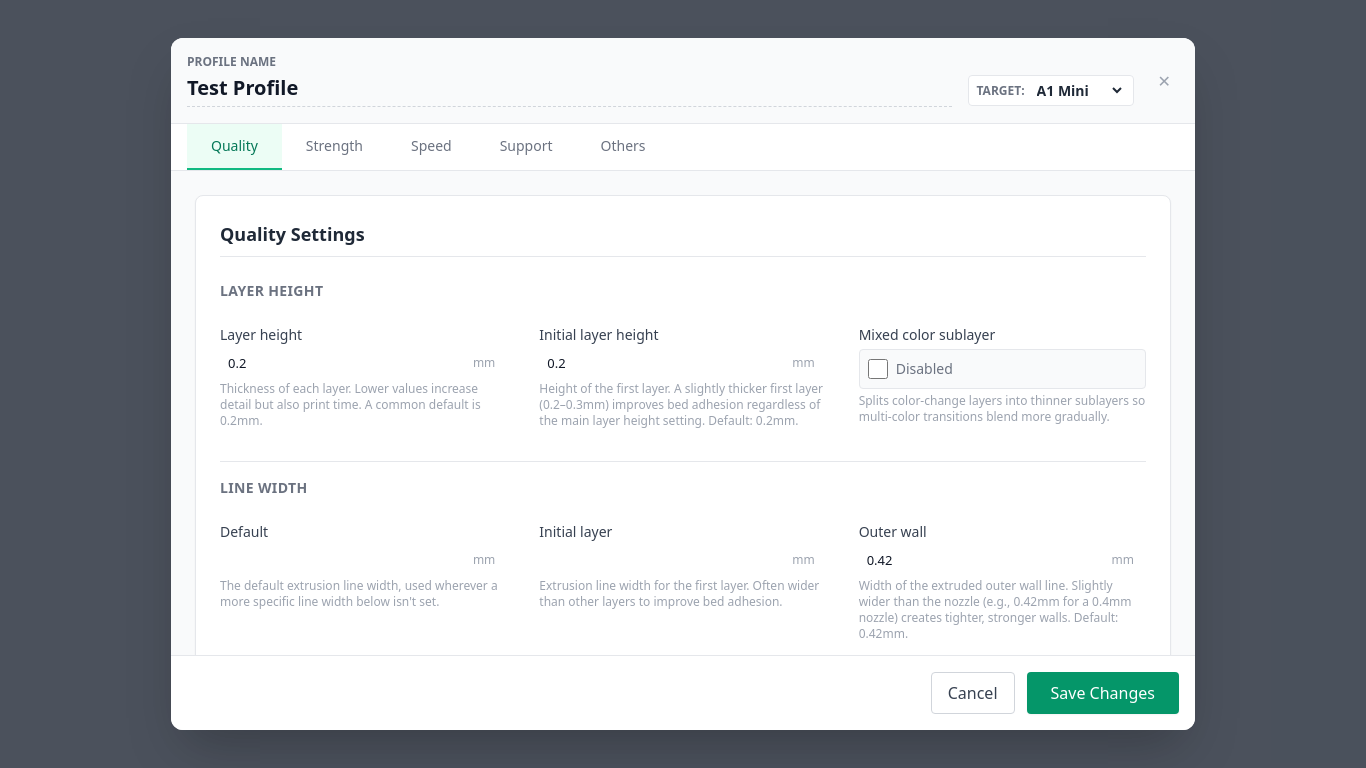
Scenario: EditorModal — profile type › changing the target printer resets speed settings to that model's defaults (new profile only)
This screenshot has width=1366, height=768.
Select "X1 Carbon" in the dropdown named "Target Printer" at (1079, 91), box [1033, 80, 1125, 101]
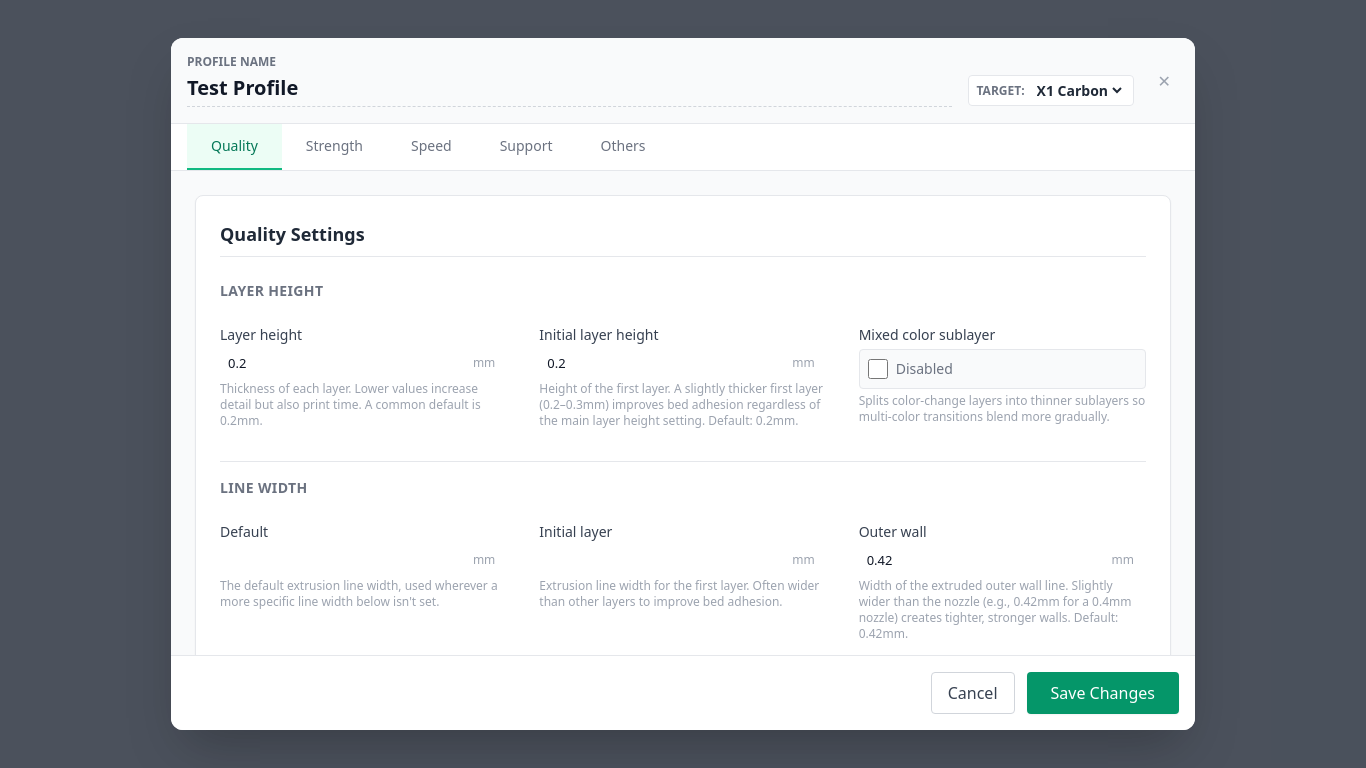
Click the button "Speed".
click(431, 147)  # box [387, 124, 476, 170]
(page scrolled)
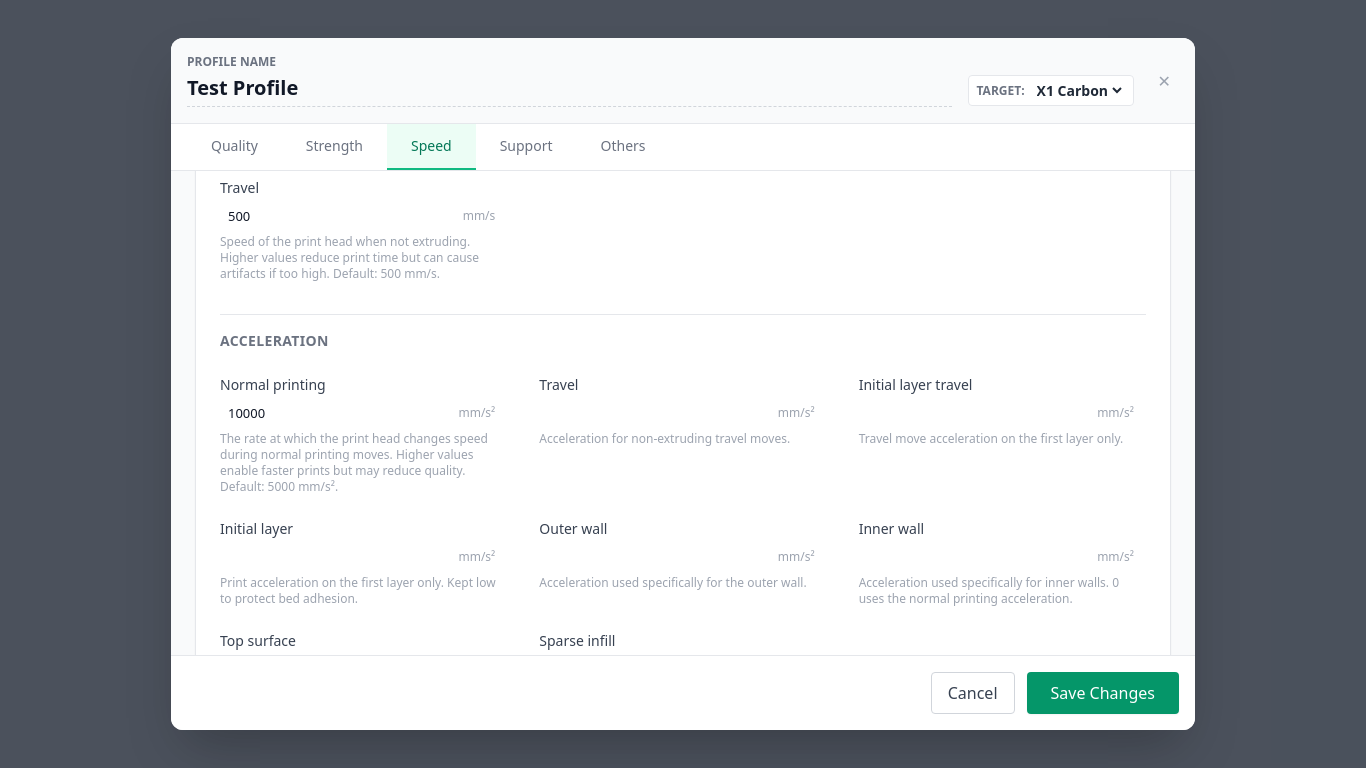
Now the 2nd number field holds "10000", box [220, 399, 360, 427]
